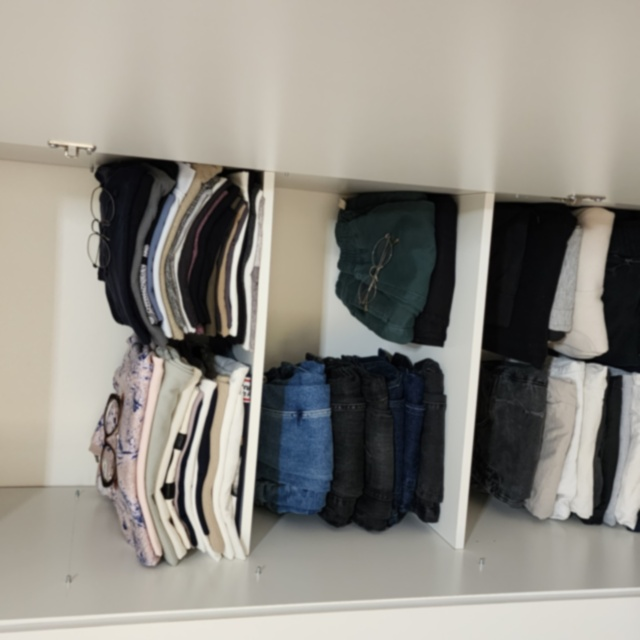glasses: (354, 229, 405, 312), (82, 184, 124, 276), (94, 391, 130, 491)
